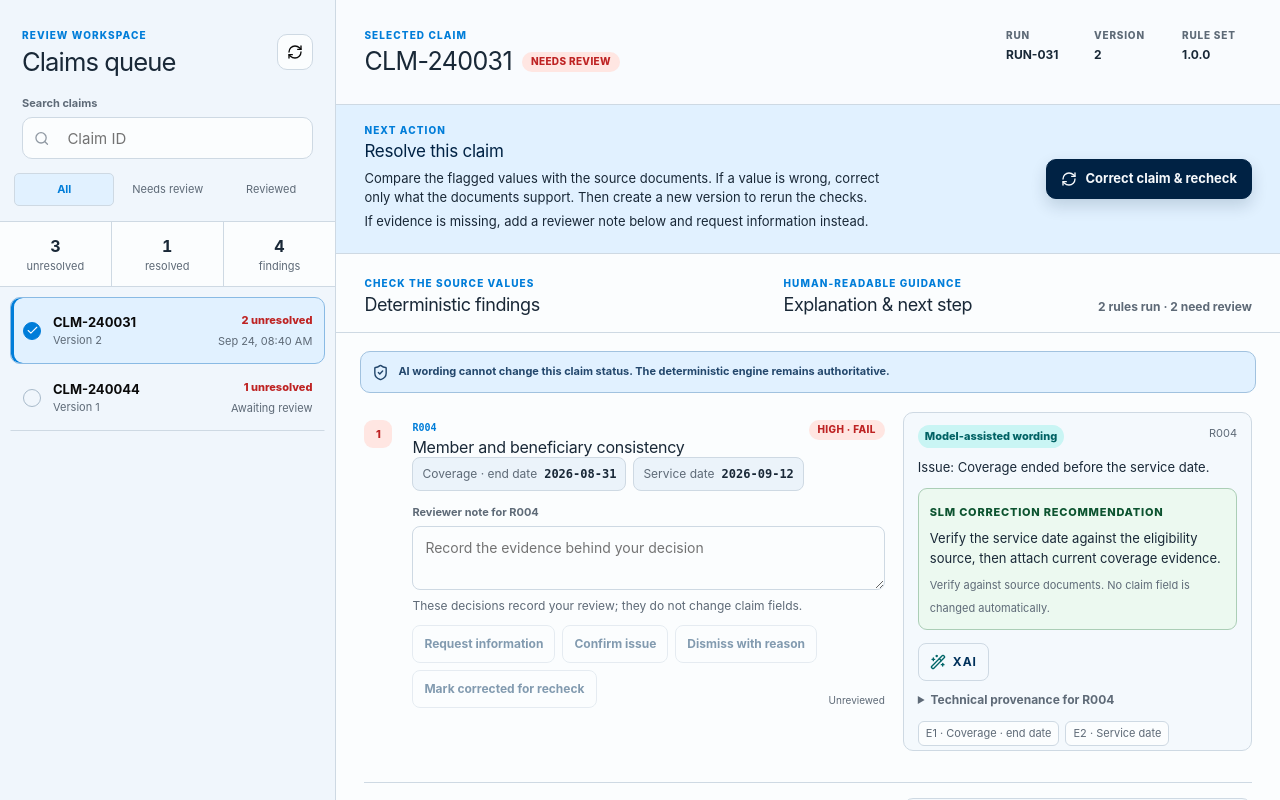
Test: ReviewCockpit › offers all four bounded review actions with a mandatory note
The image size is (1280, 800).
Expected: the button "Dismiss with reason" is disabled, [675,625,817,663]
Expected: the button "Mark corrected for recheck" is disabled, [412,670,596,708]
Type "Verified against the source." into the text box labelled "Reviewer note for R004" at (649, 558), box [412,526,885,590]
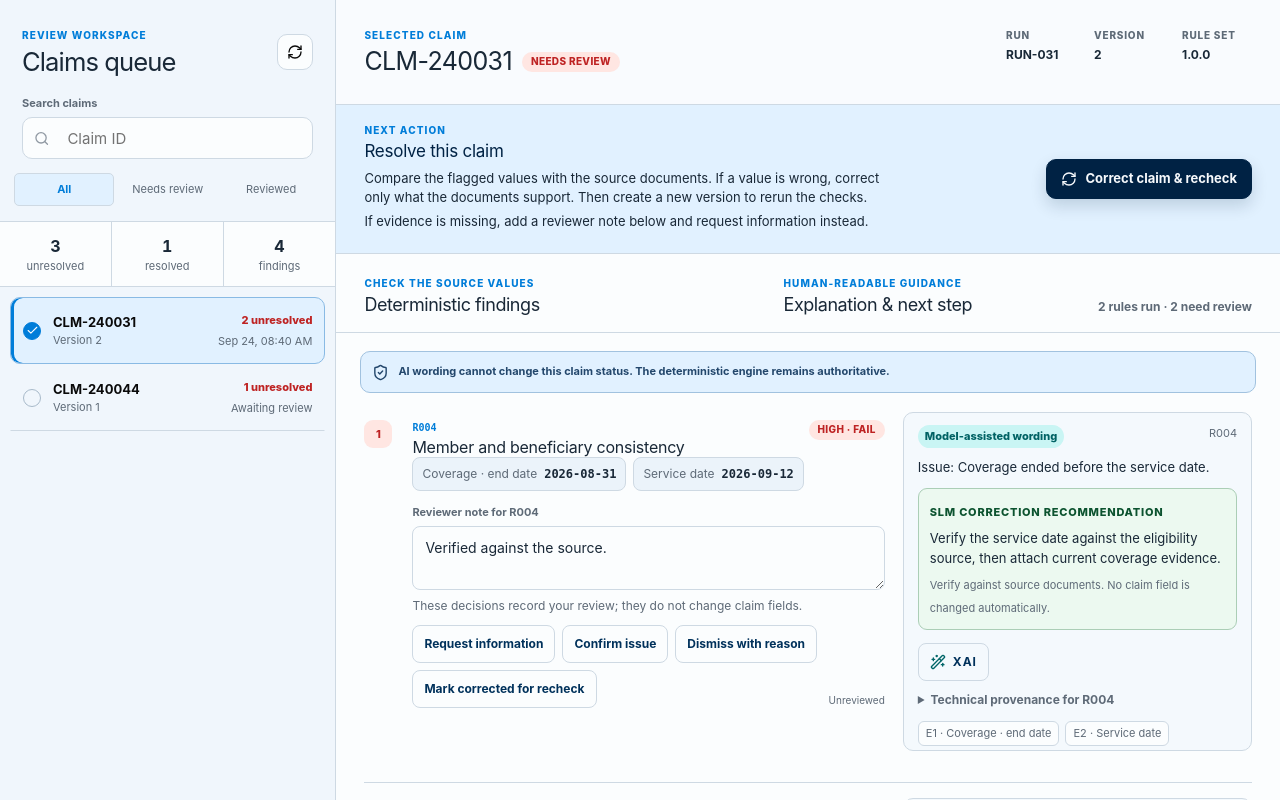
Result: the button "Dismiss with reason" is enabled at [675,625,817,663]
Result: the button "Mark corrected for recheck" is enabled at [412,670,596,708]
